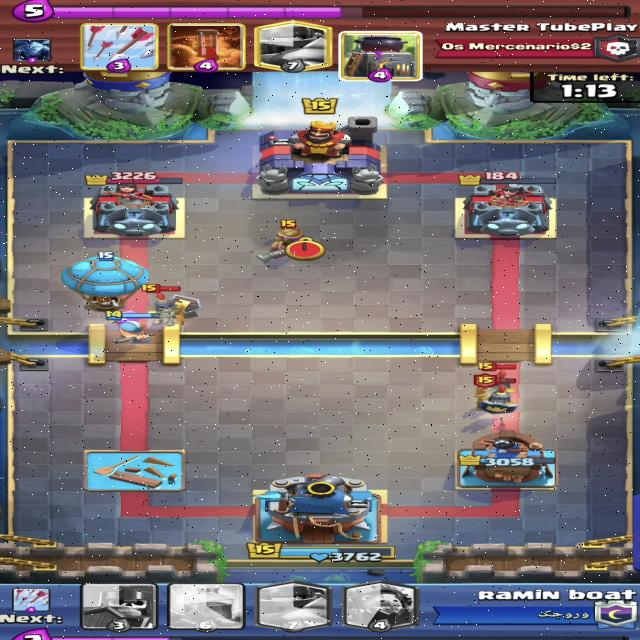Enemy-Guard: (138, 283, 184, 330), (473, 372, 521, 414), (476, 361, 518, 401)
Enemy-Musketeer: (256, 219, 314, 264)
Player-Balloon: (58, 251, 148, 312)
Player-Lumberjack: (103, 310, 163, 344)
